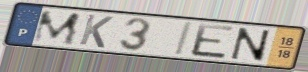3: (119, 16, 154, 53)
E: (190, 22, 237, 61)
I: (173, 21, 196, 57)
K: (77, 12, 116, 50)
M: (30, 10, 83, 46)
N: (229, 26, 272, 63)
